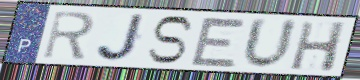E: (188, 15, 249, 69)
H: (287, 21, 349, 74)
J: (95, 13, 149, 63)
R: (40, 9, 97, 61)
S: (145, 14, 196, 65)
U: (240, 16, 300, 72)
